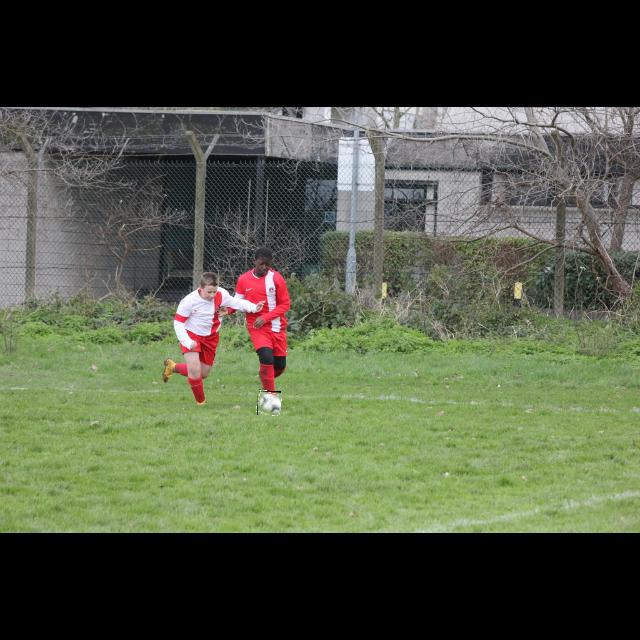Football: (257, 391, 281, 415)
